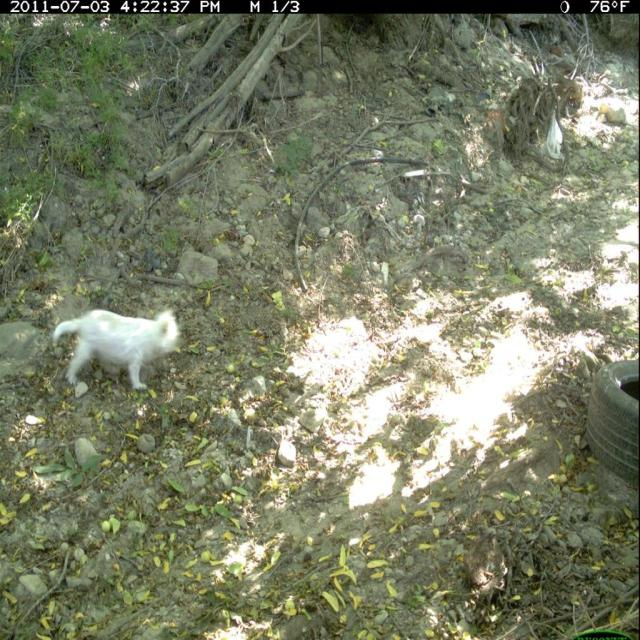dog: (54, 301, 185, 404)
